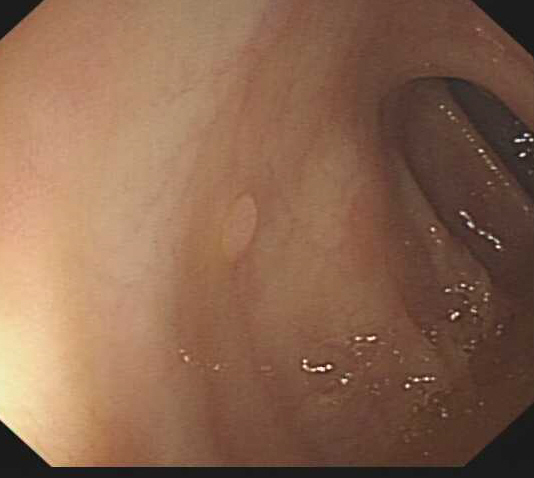others: (220, 190, 258, 266)
